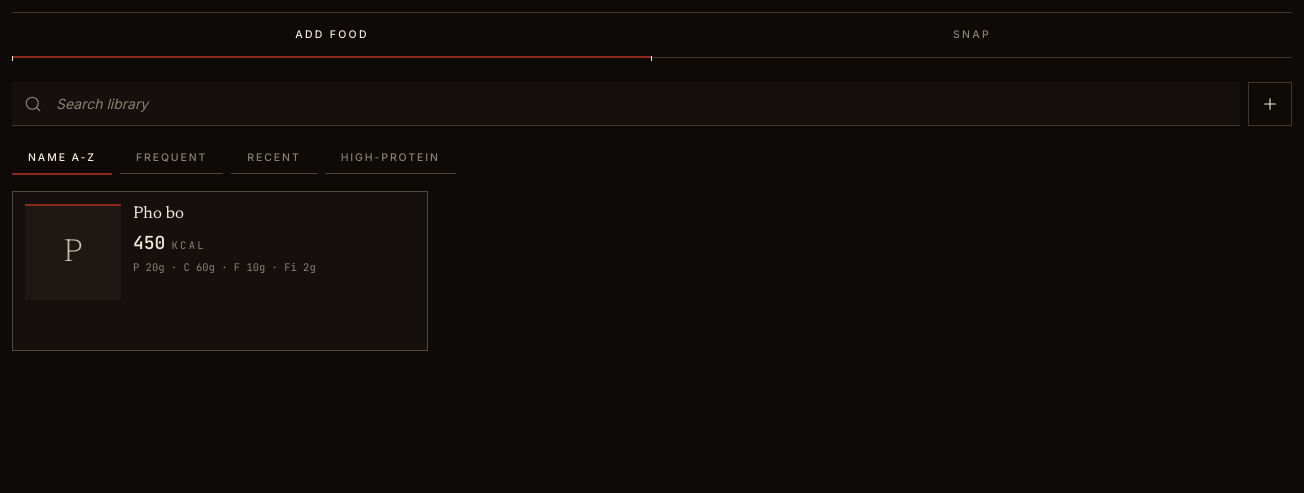
Scenario: Add Food tab — back navigation › back-arrow returns to library with search term preserved
Note: User searches 'pho'.
In the search field with test id "library-search-input": point(626, 104) top-left (12, 82), bottom-right (1240, 126), type "pho"
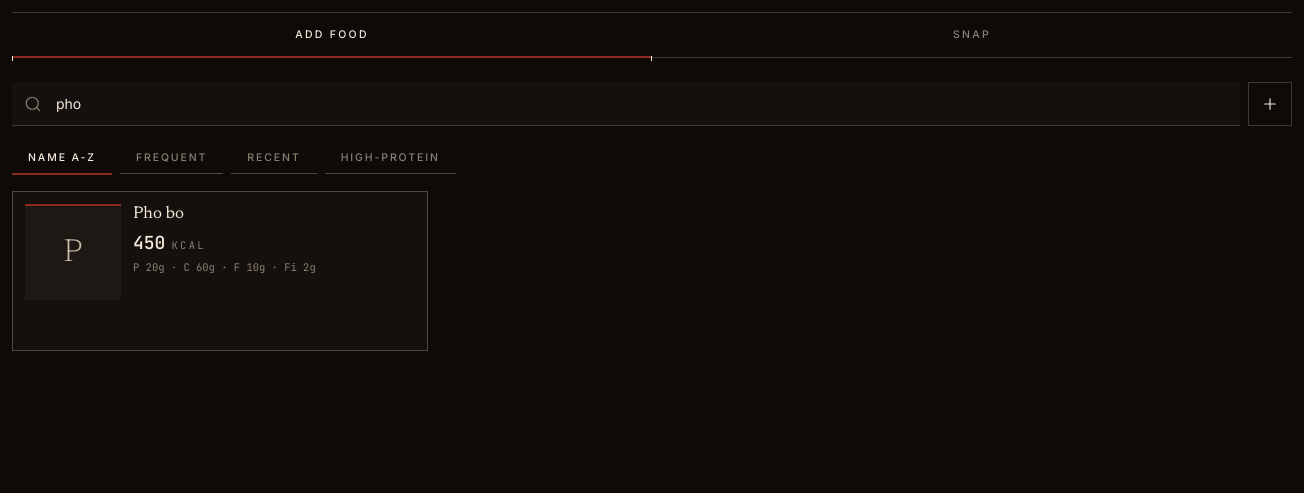
Expected: the text "Pho bo" is shown, top-left (133, 206), bottom-right (184, 222)
Note: User clicks + icon → parse subview.
Click the button with test id "library-add-new-icon-button": point(1270, 104) top-left (1248, 82), bottom-right (1292, 126)
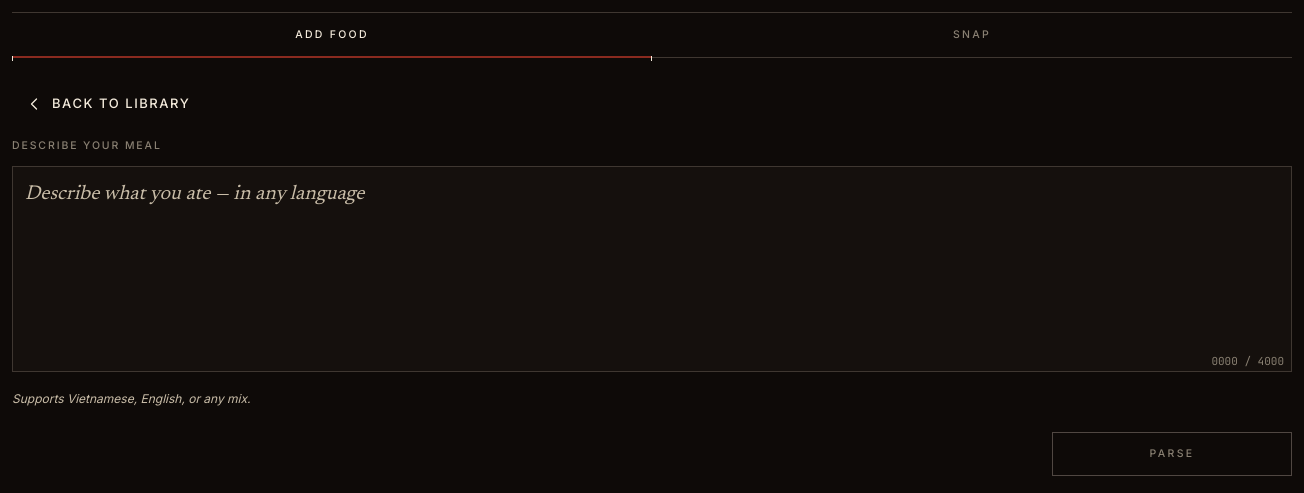
Note: User clicks back arrow.
Click the button with test id "ai-parse-form-back": point(107, 104) top-left (12, 82), bottom-right (202, 126)
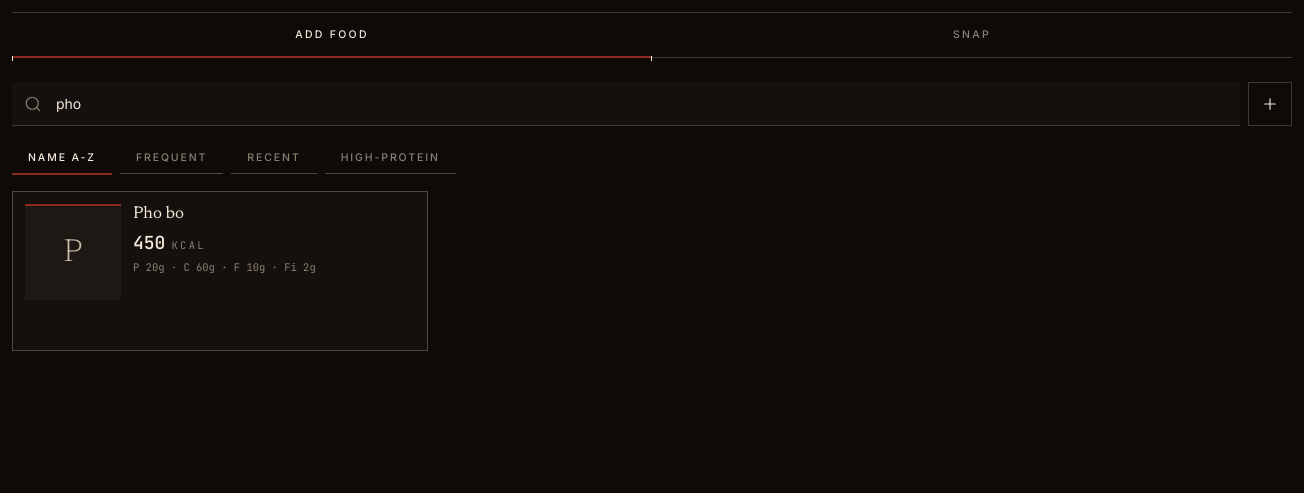
Expected: the search field with test id "library-search-input" holds "pho", top-left (12, 82), bottom-right (1240, 126)
Expected: the text "Pho bo" is shown, top-left (133, 206), bottom-right (184, 222)
